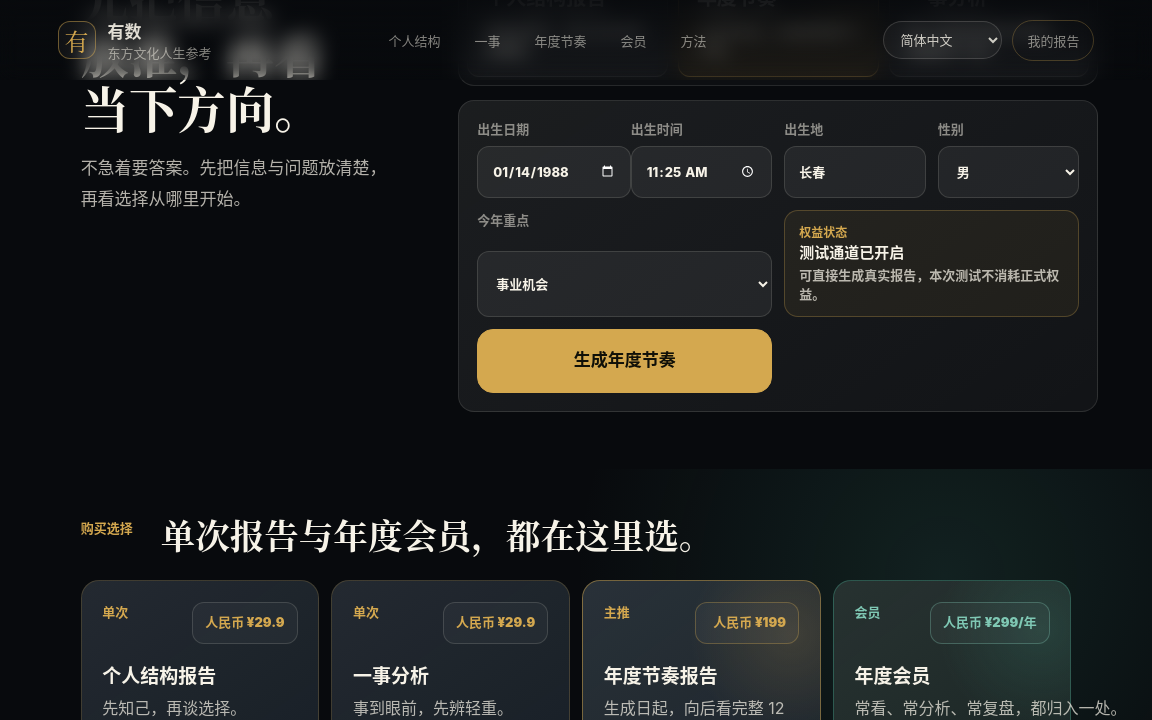
Scenario: Youshu homepage › keeps the explicit test link open after a reading has been used
The width and height of the screenshot is (1152, 720).
(page scrolled)
Expected: the text "测试通道已开启" is shown, [799, 243, 904, 262]
Expected: the text "可直接生成真实报告，本次测试不消耗正式权益。" is shown, [799, 266, 1064, 304]
Click the button "生成年度节奏" at [625, 360], box [477, 328, 772, 392]
(page scrolled)
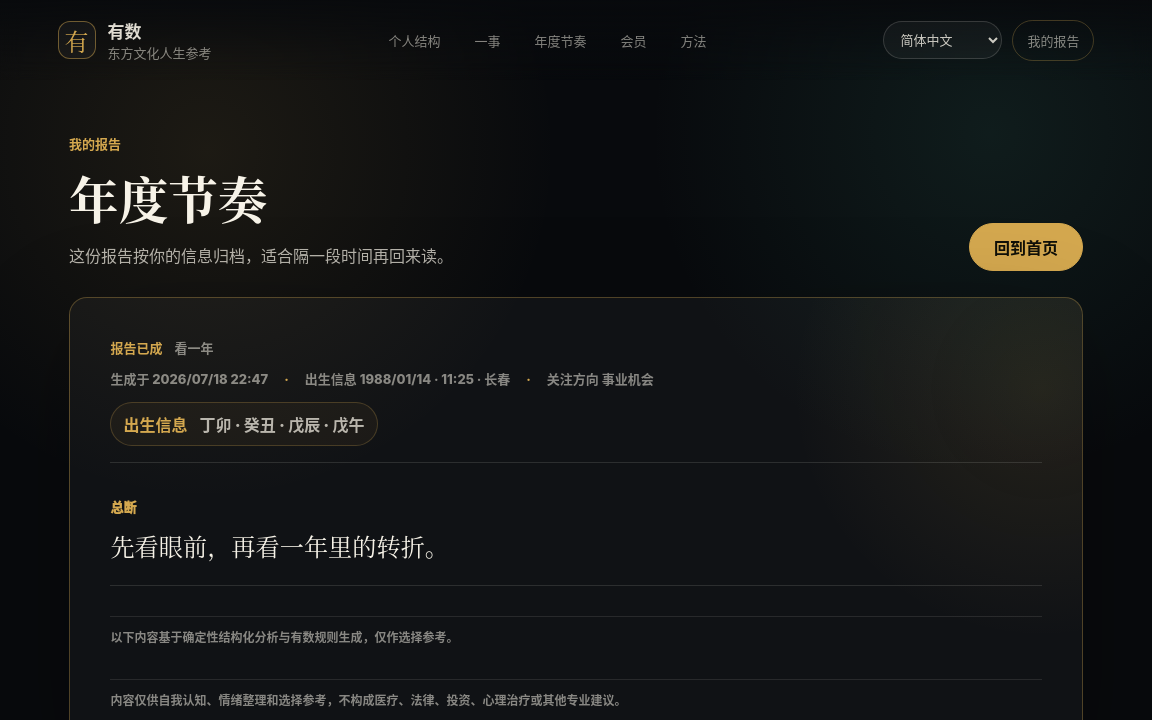
Expected: the text "报告已成" is shown, [110, 338, 162, 357]
